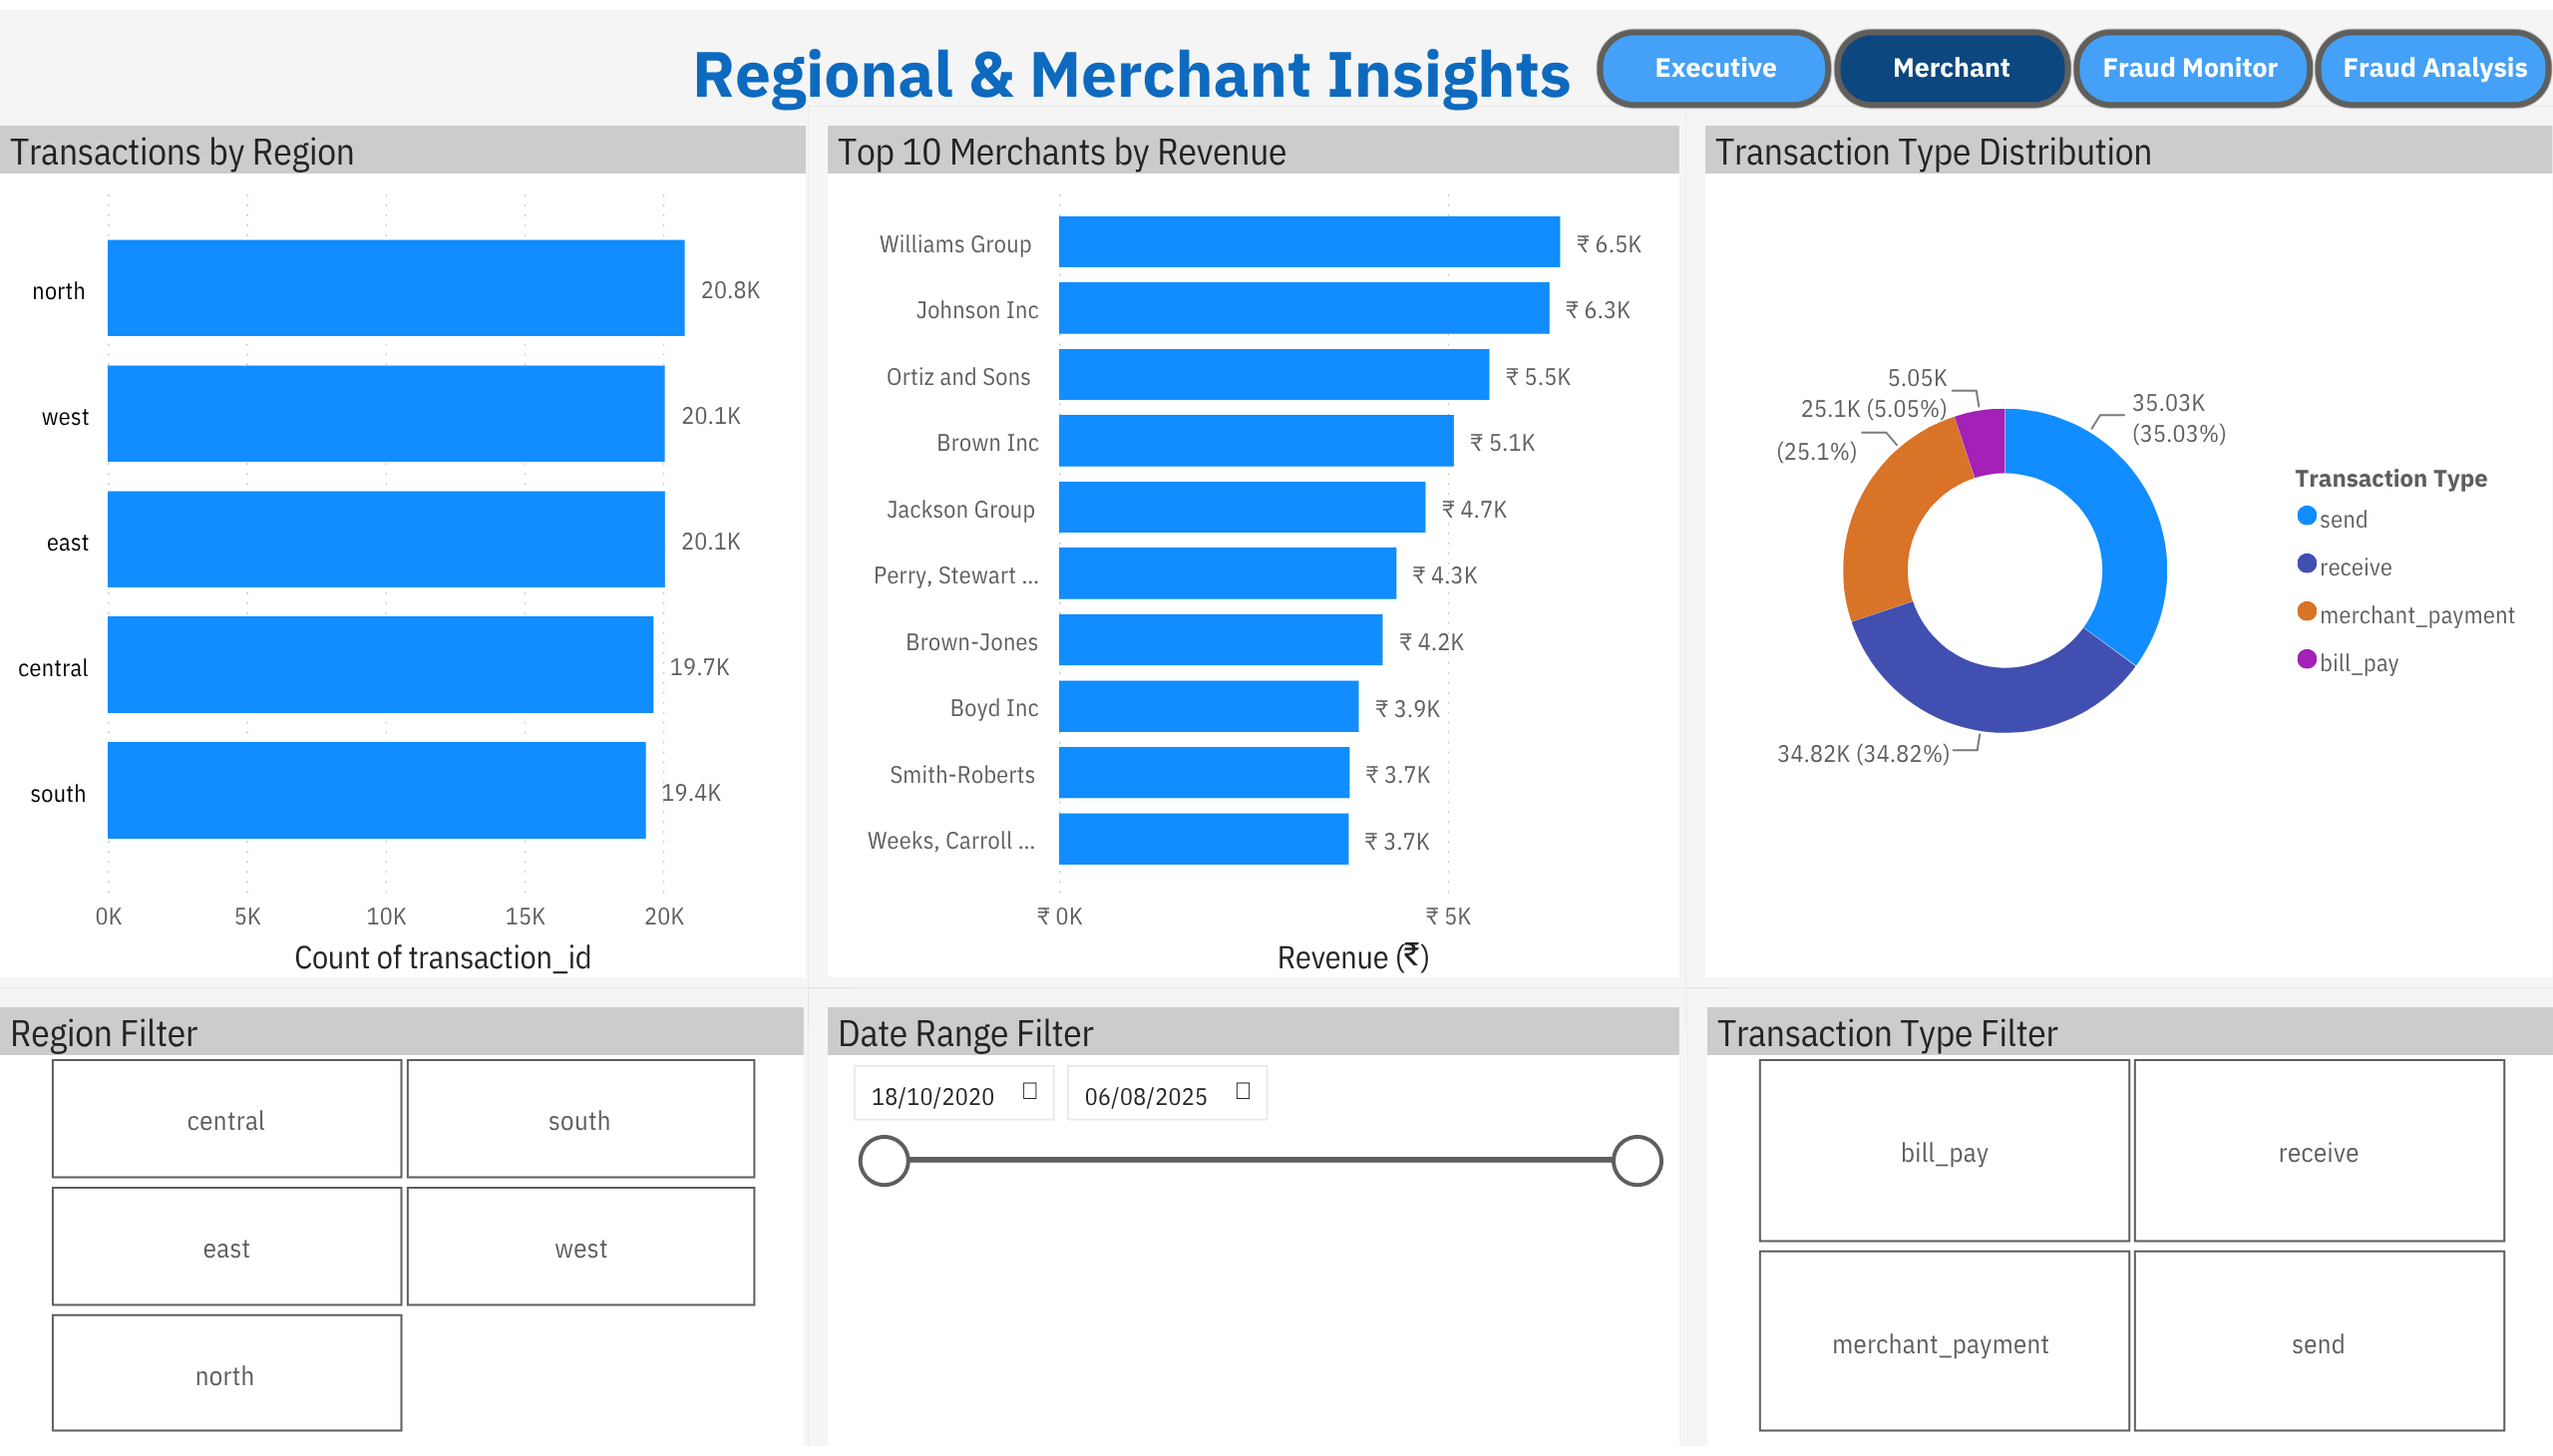

The dashboard page shown, as its layout file describes it:
{"tool":"powerbi","page":{"name":"Regional & Merchant Analysis Dashboard","canvas":[1280,720],"ordinal":1},"visuals":[{"type":"clusteredBarChart","title":"Transactions by Region","fields":{"Category":["vw_clean_customer.region"],"Y":["CountNonNull(upi_transaction_history.transaction_id)"]},"box":[0,58.2,403.6,427.1],"z":0},{"type":"clusteredBarChart","title":"Top 10 Merchants by Revenue","fields":{"Y":["Sum(upi_transaction_history.amount)"],"Category":["merchant_info.merchant_name"]},"box":[414.7,58.2,427.1,427.1],"z":1000},{"type":"donutChart","title":"Transaction Type Distribution","fields":{"Category":["upi_transaction_history.transaction_type"],"Y":["CountNonNull(upi_transaction_history.transaction_id)"]},"box":[855.4,58.2,424.6,427.1],"z":2000},{"type":"slicer","title":"Region Filter","fields":{"Values":["vw_clean_customer.region"]},"box":[0,499.7,403.4,220.3],"z":3000},{"type":"slicer","title":"Date Range Filter","fields":{"Values":["upi_transaction_history.timestamp"]},"box":[414.8,499.7,427.2,220.3],"z":4000},{"type":"slicer","title":"Transaction Type Filter","fields":{"Values":["upi_transaction_history.transaction_type"]},"box":[855.5,499.7,424.1,220.3],"z":5000},{"type":"actionButton","box":[1038.6,8.7,121.3,40.9],"z":7001},{"type":"actionButton","box":[1159.9,8.7,120.1,40.9],"z":7002},{"type":"actionButton","box":[799.7,8.7,118.8,40.9],"z":7003},{"type":"actionButton","box":[918.5,8.7,120.1,40.9],"z":7004},{"type":"textbox","box":[0,0,799.7,58.2],"z":7005}]}

Visuals, with their boxes in screenshot pixels (x1, y1, x2, y2), scaled from the page's 1280x720 canvas onto the 2553x1456 screenshot:
"Transactions by Region" clusteredBarChart: bbox(0, 118, 805, 981)
"Top 10 Merchants by Revenue" clusteredBarChart: bbox(827, 118, 1679, 981)
"Transaction Type Distribution" donutChart: bbox(1706, 118, 2552, 981)
"Region Filter" slicer: bbox(0, 1010, 805, 1455)
"Date Range Filter" slicer: bbox(828, 1010, 1679, 1455)
"Transaction Type Filter" slicer: bbox(1706, 1010, 2552, 1455)
actionButton: bbox(2071, 18, 2314, 101)
actionButton: bbox(2314, 18, 2552, 101)
actionButton: bbox(1595, 18, 1832, 101)
actionButton: bbox(1832, 18, 2071, 101)
textbox: bbox(0, 0, 1595, 118)
